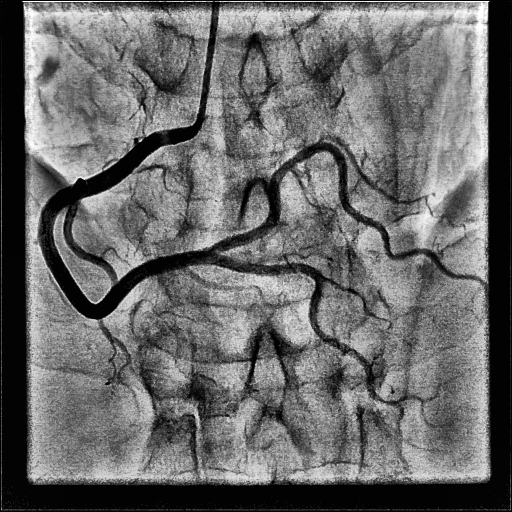pborca: (215, 141, 486, 286)
pda: (217, 254, 406, 428)
rca: (38, 126, 220, 319)
